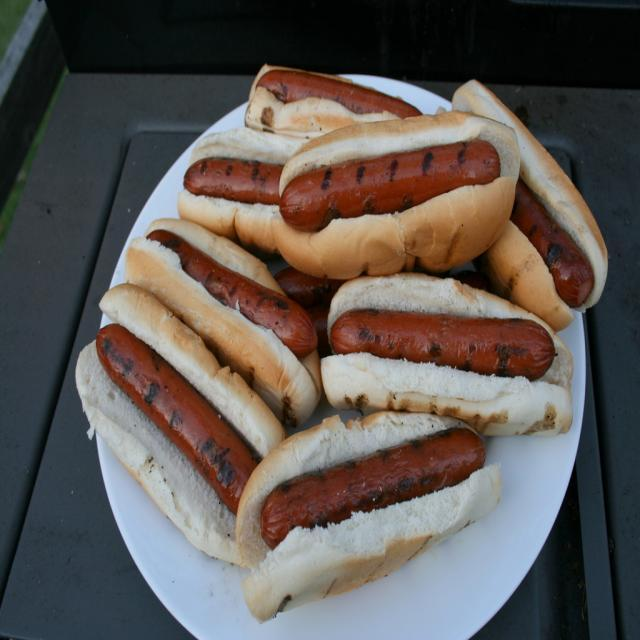Hot dog: (76, 63, 610, 625), (272, 110, 520, 284), (312, 262, 567, 428)
